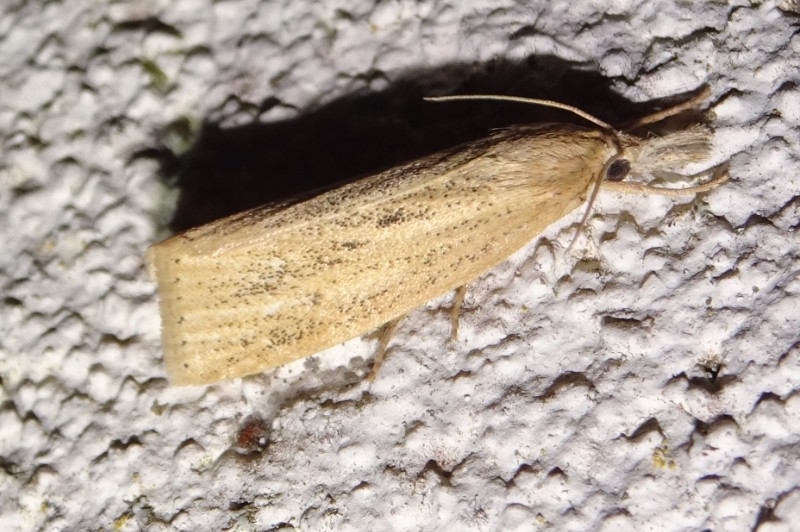Crambidae: (144, 77, 728, 405)
